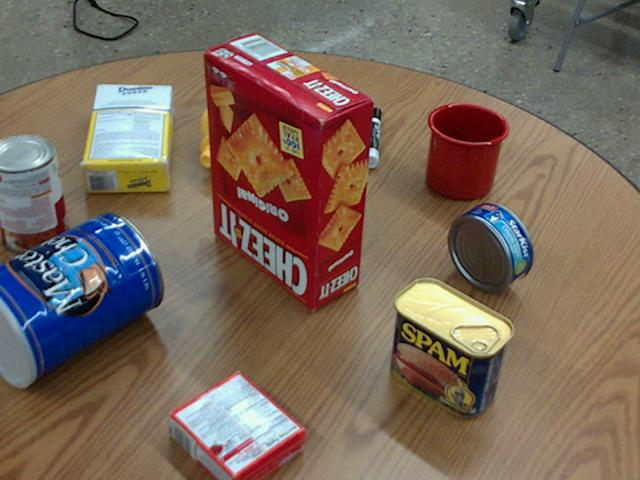cracker_box: (203, 33, 373, 309)
gelatin_box: (169, 370, 305, 479)
large_marker: (363, 107, 381, 167)
master_chef_can: (0, 211, 162, 387)
mug: (423, 102, 507, 199)
mustard_bottle: (199, 68, 313, 166)
potted_meat_can: (389, 277, 514, 417)
sugar_box: (80, 81, 172, 193)
tomato_soup_can: (0, 134, 68, 254)
tuna_fish_can: (447, 201, 532, 291)
